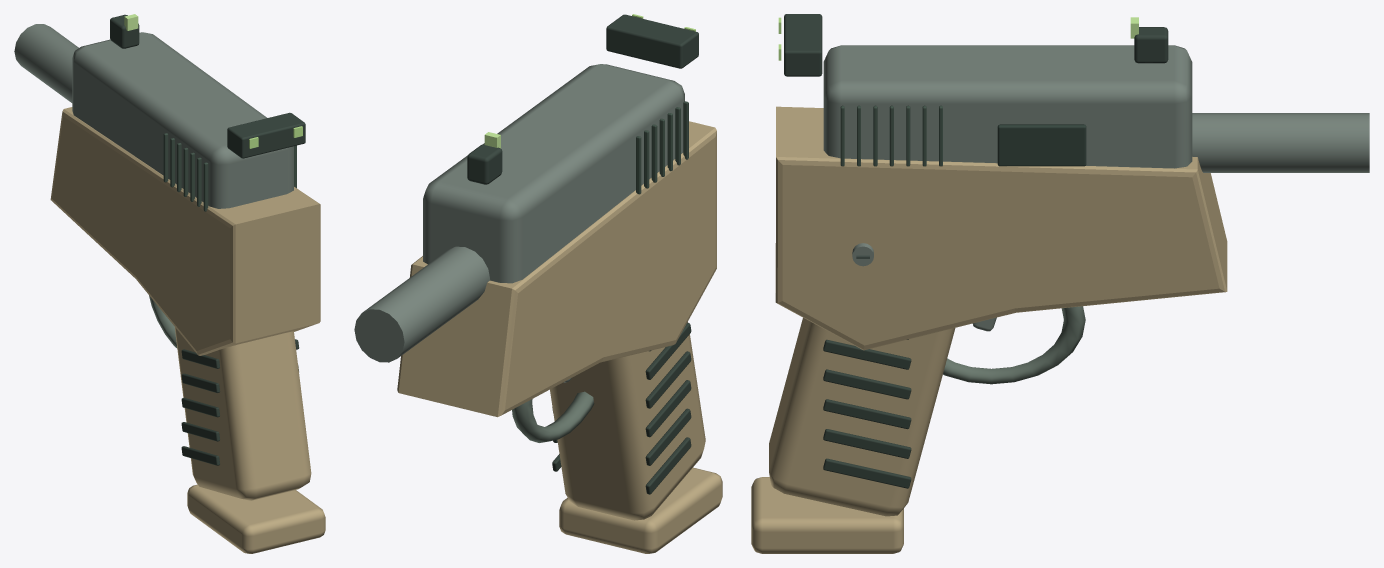
3 views of the same model, side by side, from view 1: azimuth 30°, elevation 25°; view 2: azimuth 150°, elevation 25°; view 3: azimuth 270°, elevation 25° (orthographic). The views are drawn at different scales.
Parts seen in each view (by area): view 1: p250, bolt, magazine; view 2: p250, bolt, magazine; view 3: p250, bolt, magazine.
Part boxes in pixels (box(x1,y1,x2,y2)): p250: box(14, 14, 320, 500); bolt: box(72, 32, 296, 211); magazine: box(187, 484, 325, 553); p250: box(354, 14, 716, 520); bolt: box(423, 64, 688, 283); magazine: box(559, 467, 722, 553); p250: box(769, 14, 1369, 516); bolt: box(823, 45, 1192, 168); magazine: box(751, 477, 903, 553).
Bounding box in the file's own units: 0.1055 × 0.4145 × 0.453.
